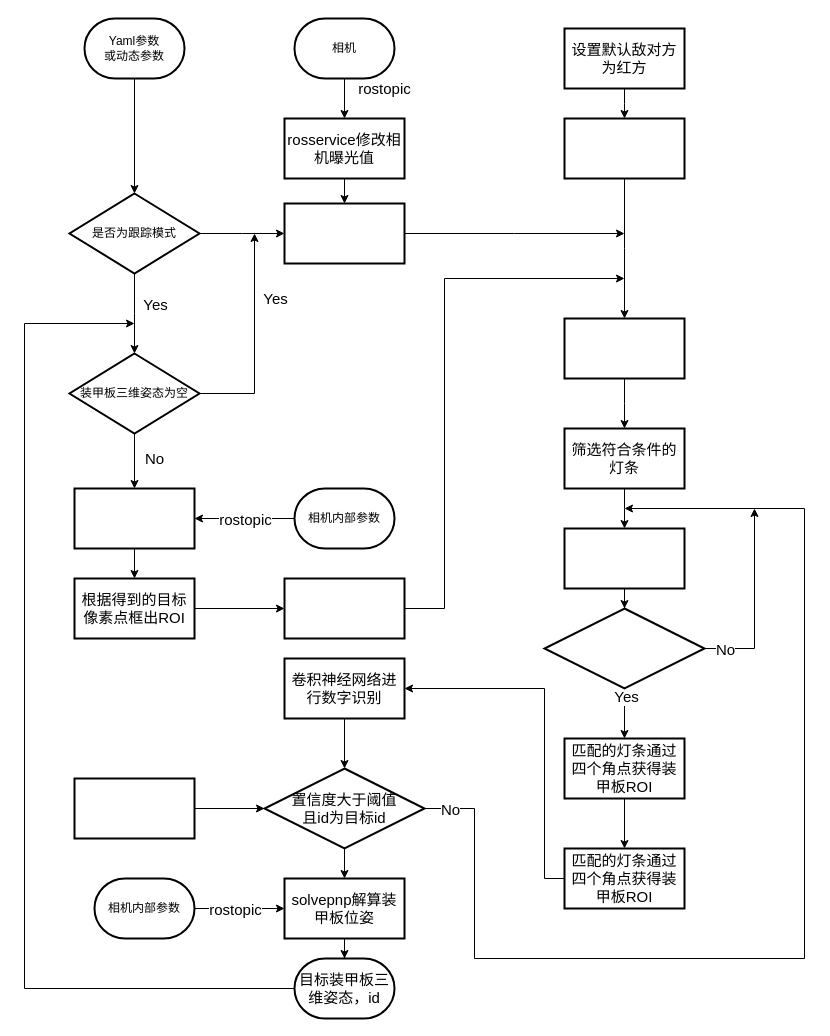
Some shapes in this 830 by 1036 pixel diagram are drawn without their labels. Here are the shapes that lost their labels. From the top down, the centre of each, then its label:
(624,148): rosservice修改敌对颜色
(344,233): 传入相机整张图像
(624,348): 单通道阈值分割
(134,518): 将三维坐标点映射到图像坐标系
(624,558): 灯条逐一匹配
(344,608): 传入ROI图像
(624,648): 满足角度差等 多个判断条件
(134,808): rosservice修改目标装甲板id
